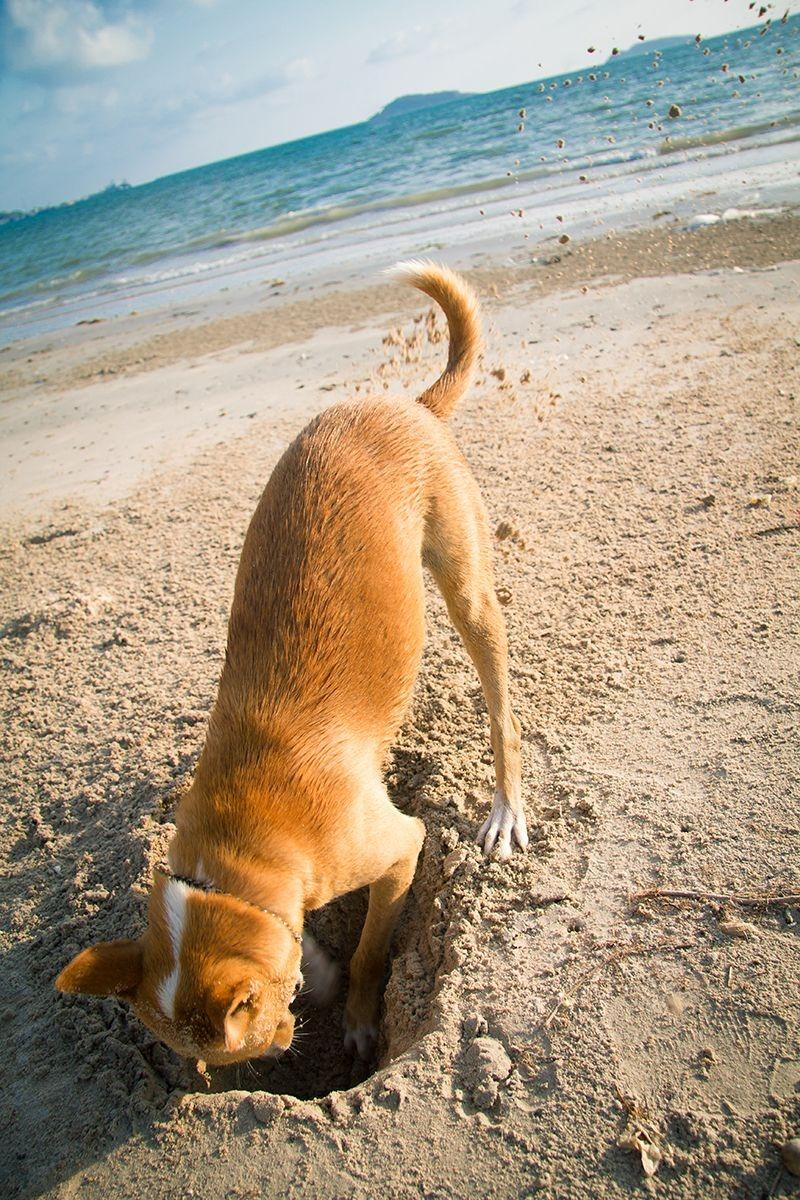adult_dog: (45, 256, 529, 1075)
